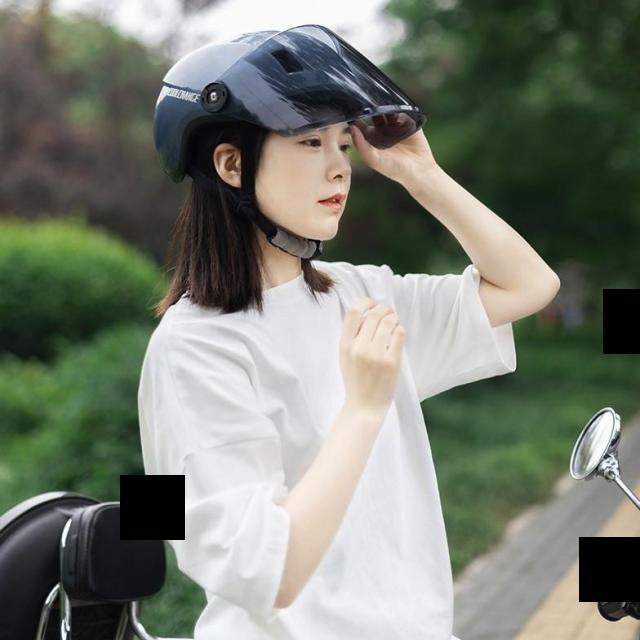Helmet: (154, 23, 426, 252)
